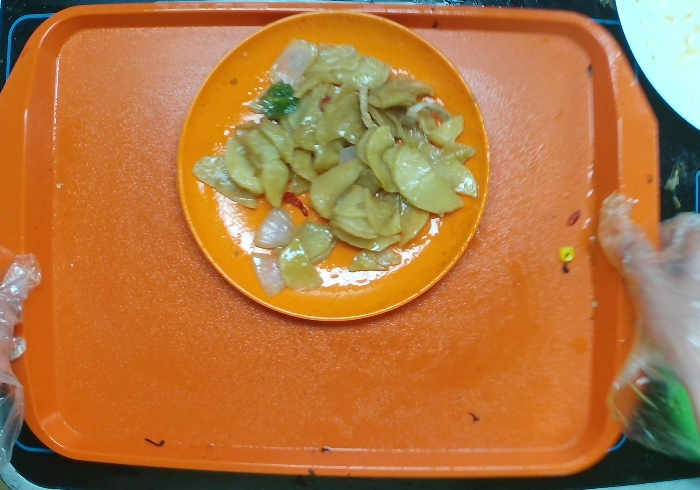HZYJPL-Ju_Huang_Yuan_Pan: (179, 11, 491, 325)
